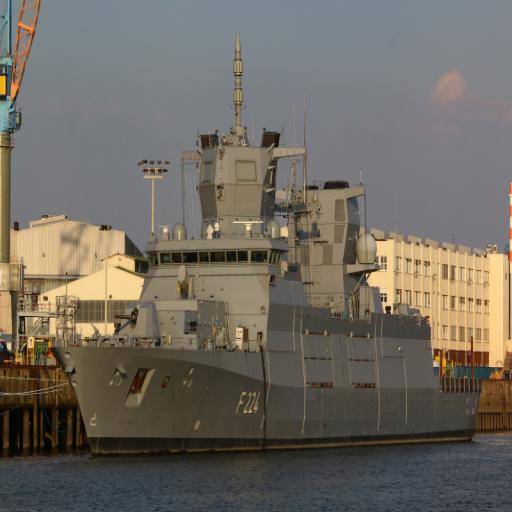Fragata: (46, 32, 483, 465)
